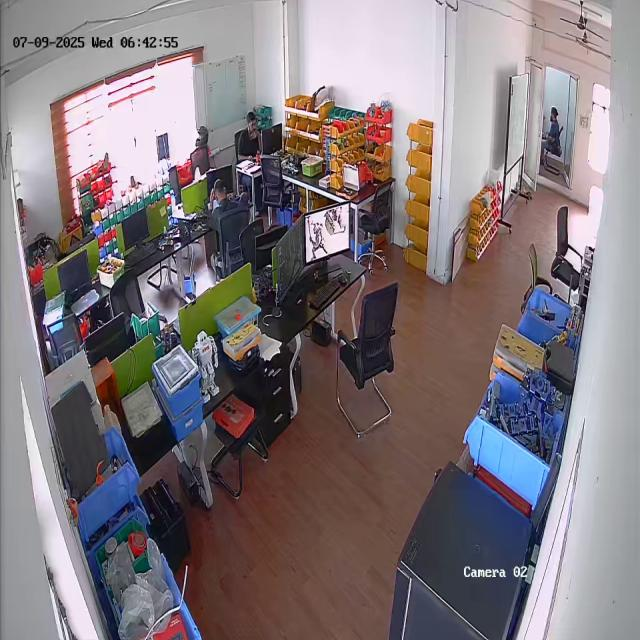person: (204, 178, 249, 270), (237, 110, 271, 174), (543, 104, 571, 173)
